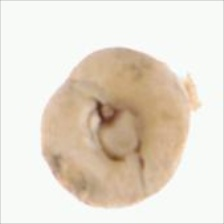L3: (87, 99, 145, 166)
L4: (40, 47, 201, 208)
